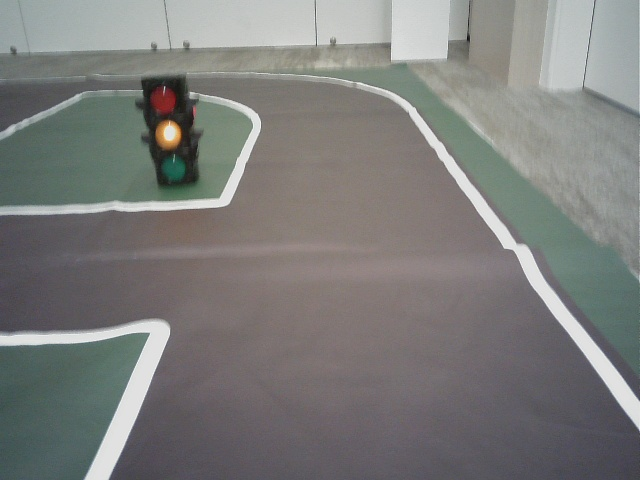yellow: (145, 78, 189, 183)
